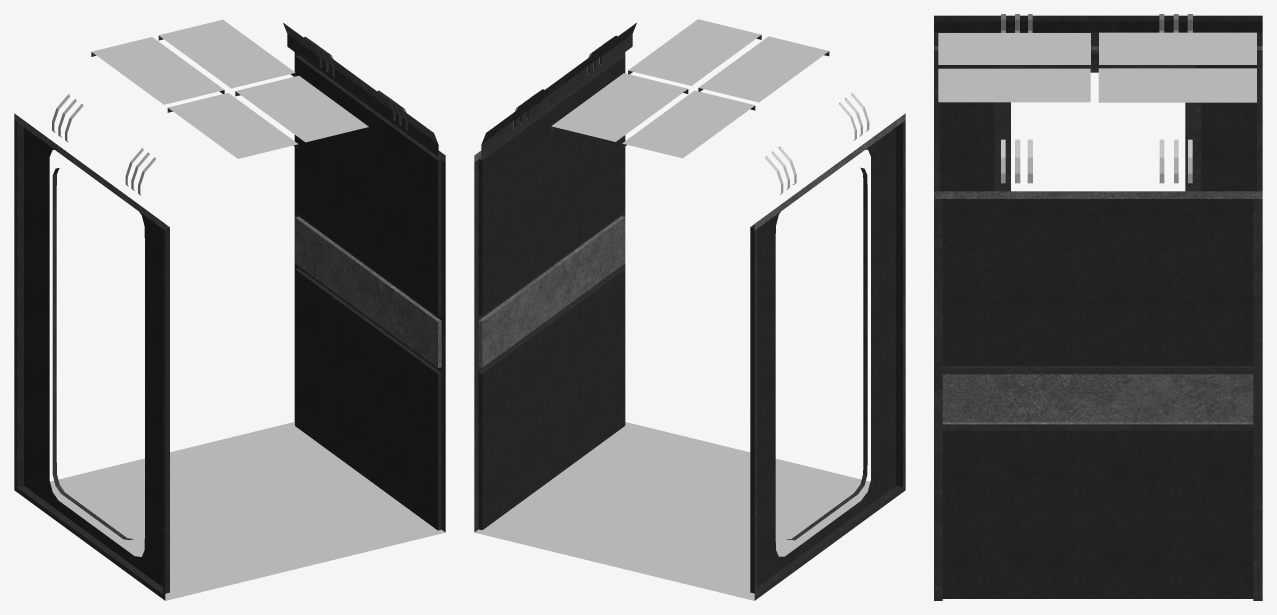
The model's file is StraightHallwayDoor.fbx.
3 renders of one model, left to right at view 1: azimuth 30°, elevation 25°; view 2: azimuth 150°, elevation 25°; view 3: azimuth 270°, elevation 25°, orthographic. The views are drawn at different scales.
Parts seen in each view (by area): view 1: Cube.003, Cube.020, Cube.010, Cube.014, Cube.028; view 2: Cube.003, Cube.020, Cube.010, Cube.014, Cube.028; view 3: Cube.003, Cube.010, Cube.014, Cube.028.
Boxes of the visible parts, x1,y1,x2,y2 form: Cube.003: [17, 55, 441, 593]; Cube.020: [50, 422, 445, 600]; Cube.010: [52, 19, 406, 194]; Cube.014: [14, 23, 445, 600]; Cube.028: [14, 113, 445, 367]; Cube.003: [478, 55, 902, 593]; Cube.020: [474, 422, 870, 600]; Cube.010: [513, 19, 869, 193]; Cube.014: [474, 23, 905, 600]; Cube.028: [474, 113, 905, 367]; Cube.003: [939, 50, 1256, 598]; Cube.010: [938, 14, 1256, 183]; Cube.014: [934, 15, 1262, 600]; Cube.028: [934, 46, 1262, 424].
Bounding box in the file's own units: 692 × 996 × 647.
